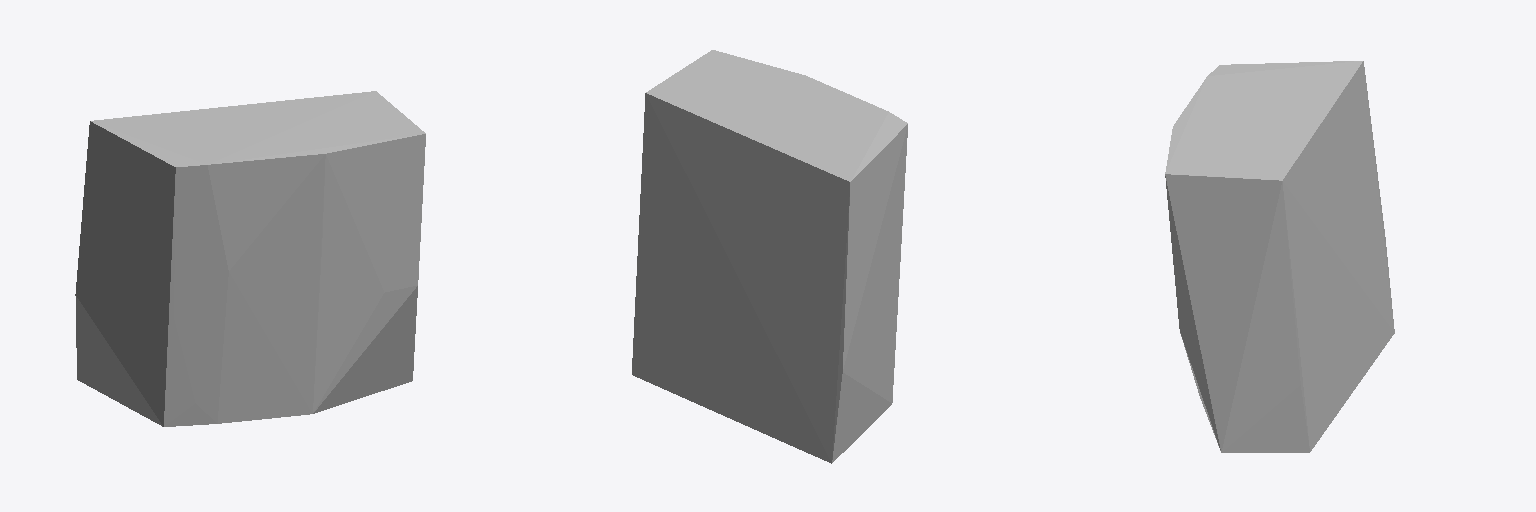
The model's file is trash_bin_collision_21.obj.
3 views of the same model, side by side, from view 1: azimuth 30°, elevation 25°; view 2: azimuth 150°, elevation 25°; view 3: azimuth 270°, elevation 25° (orthographic).
Size of the model in its own units: 0.0419 by 0.0434 by 0.0327.